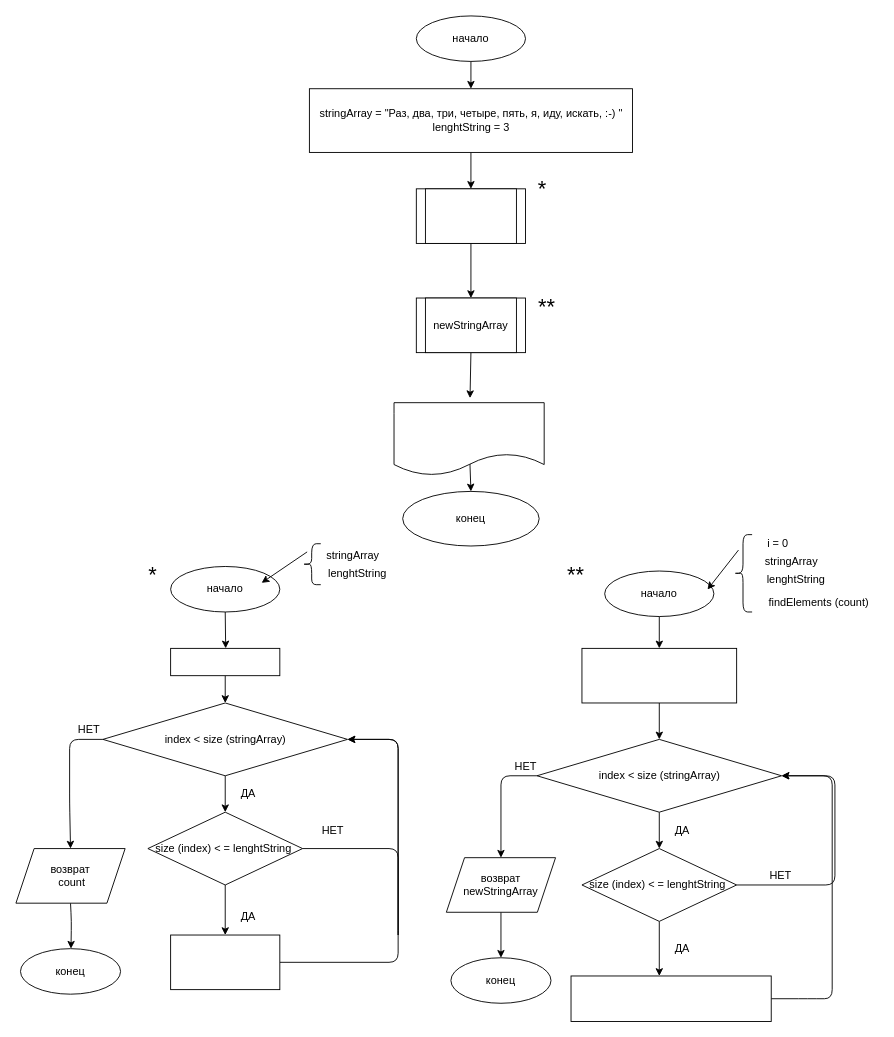
The diagram is 894 pixels wide and 1037 high, and some of its shapes have lost their labels. Here are the shapes that lost their labels. From the top down, the centre of each, then its label:
At point 470,215: "findElements".
At point 468,438: "вывод newStringArray stringArray".
At point 225,661: "count = 0".
At point 659,675: "newStringArray size (newStringArray) = findElements (count)".
At point 225,962: "count + 1".
At point 670,998: "newStringArray[i] = stringArray[index] i+1".
